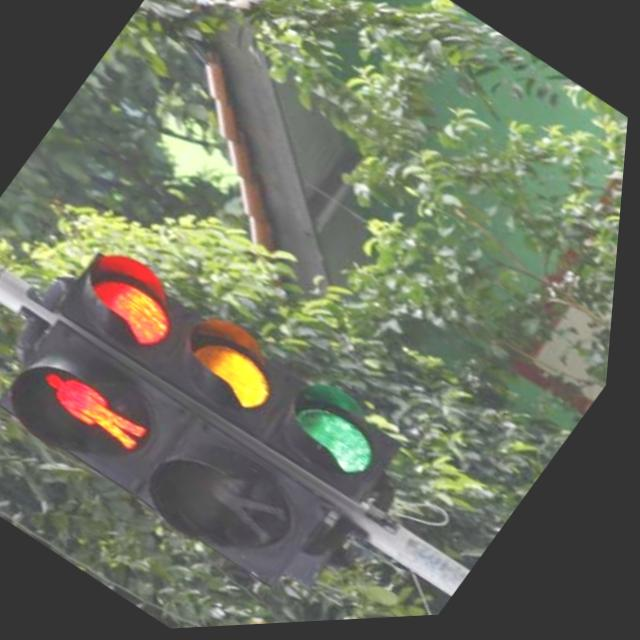Hijau: (282, 392, 396, 489)
Kuning: (180, 327, 294, 423)
Merah: (80, 263, 193, 359)
